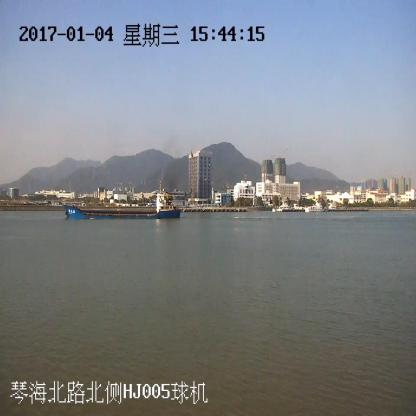Bulk Carrier: (64, 183, 181, 219)
